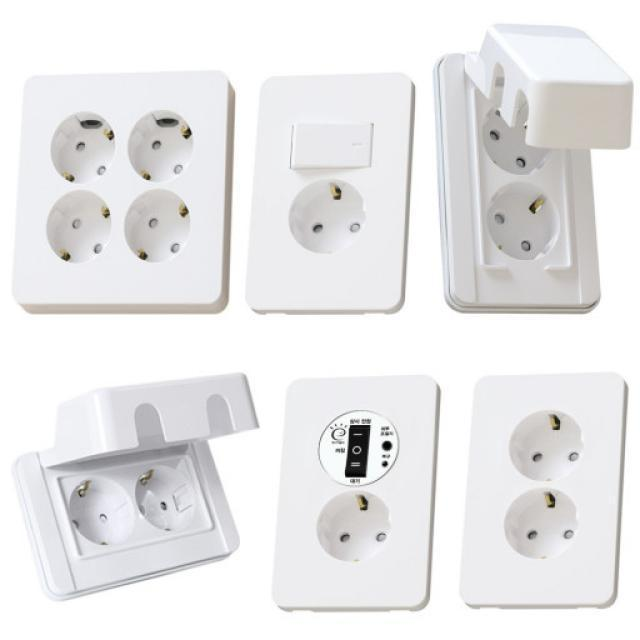typeb: (9, 56, 248, 317), (432, 18, 626, 329), (19, 356, 266, 598), (238, 59, 421, 333), (453, 355, 634, 623), (269, 347, 444, 602)
